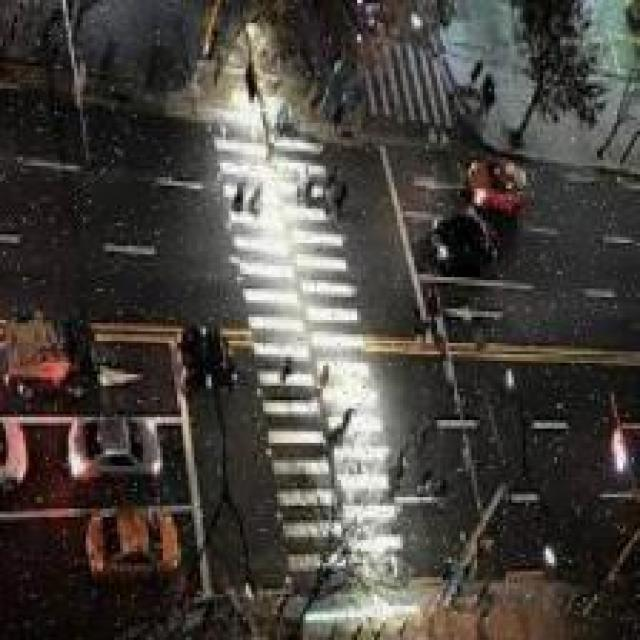crosswalk: (205, 123, 412, 575)
